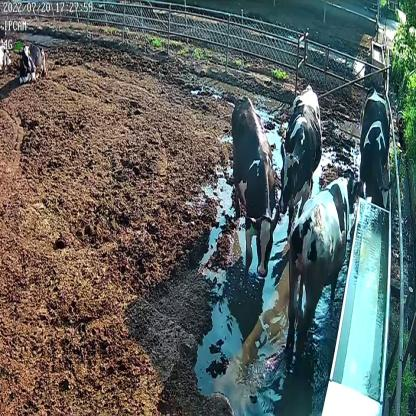cow: (284, 165, 364, 355), (231, 93, 282, 281), (278, 83, 324, 232), (357, 87, 393, 212), (18, 41, 48, 85)
